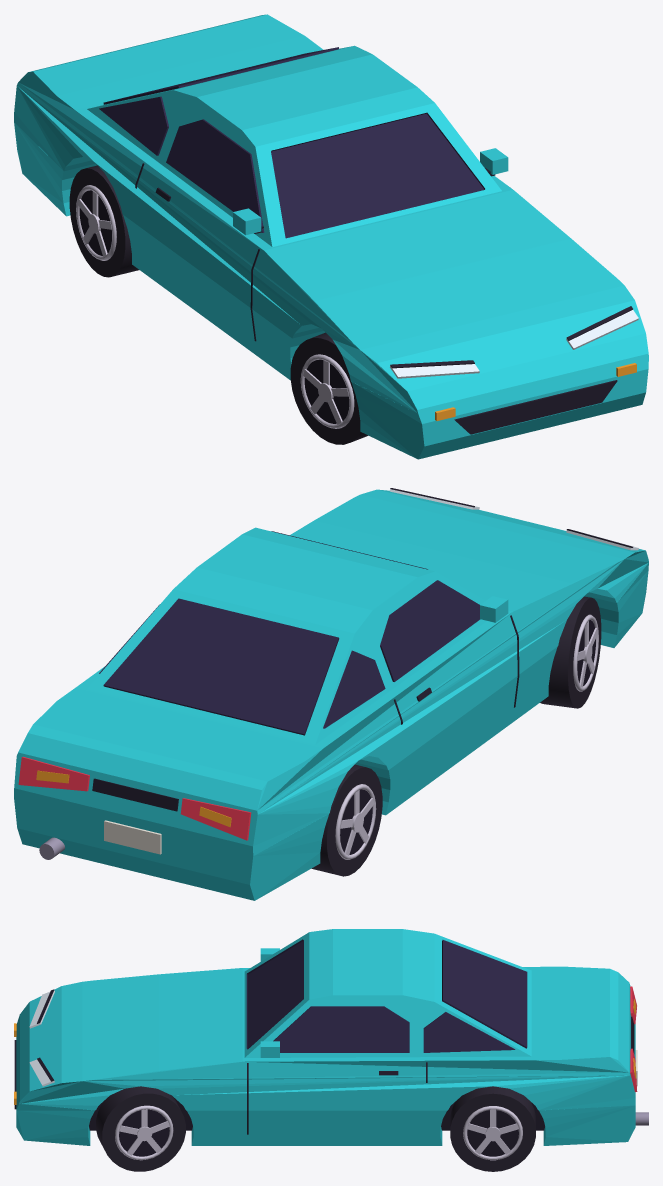
The model's file is sylph_s15_pool.glb.
The picture shows the model from 3 angles, top to bottom: view 1: azimuth 30°, elevation 25°; view 2: azimuth 150°, elevation 25°; view 3: azimuth 270°, elevation 25°; orthographic projection. The views are drawn at different scales.
Visible parts, largest first — view 1: body_top, body_mid, cabin, glass_windshield, body_low_front, body_low_mid, glass_door, intake, wheel_RL_tire, wheel_FL_tire, body_low_rear, glass_quarter (+7 smaller); view 2: body_top, body_mid, cabin, glass_rear, body_low_rear, body_low_mid, glass_door, wheel_FL_tire, wheel_RL_tire, glass_quarter, body_low_front, taillamp_L (+7 smaller); view 3: body_top, body_mid, cabin, body_low_mid, glass_rear, glass_door, glass_windshield, wheel_FR_tire, wheel_RR_tire, body_low_rear, body_low_front, glass_quarter (+5 smaller).
Boxes of the visible parts, <box> form: body_top: <box>17,14,616,342</box>; body_mid: <box>14,86,648,413</box>; cabin: <box>87,45,501,246</box>; glass_windshield: <box>271,112,484,238</box>; body_low_front: <box>351,357,648,459</box>; body_low_mid: <box>123,215,325,380</box>; glass_door: <box>166,119,264,232</box>; intake: <box>454,380,617,434</box>; wheel_RL_tire: <box>69,165,138,277</box>; wheel_FL_tire: <box>290,332,368,444</box>; body_low_rear: <box>14,122,97,216</box>; glass_quarter: <box>99,96,168,155</box>; body_top: <box>17,498,616,814</box>; body_mid: <box>14,489,648,856</box>; cabin: <box>87,527,486,744</box>; glass_rear: <box>103,598,339,735</box>; body_low_rear: <box>14,798,328,900</box>; body_low_mid: <box>355,646,557,815</box>; glass_door: <box>380,580,480,681</box>; wheel_FL_tire: <box>540,596,601,708</box>; wheel_RL_tire: <box>311,764,382,876</box>; glass_quarter: <box>99,604,385,728</box>; body_low_front: <box>584,563,648,647</box>; taillamp_L: <box>180,798,251,840</box>; body_top: <box>93,966,629,1079</box>; body_mid: <box>19,980,635,1110</box>; cabin: <box>244,929,531,1057</box>; body_low_mid: <box>187,1110,446,1145</box>; glass_rear: <box>442,940,527,1048</box>; glass_door: <box>273,1006,409,1052</box>; glass_windshield: <box>246,939,303,1049</box>; wheel_FR_tire: <box>96,1086,185,1171</box>; wheel_RR_tire: <box>450,1086,535,1171</box>; body_low_rear: <box>539,1105,635,1145</box>; body_low_front: <box>16,1018,94,1145</box>; glass_quarter: <box>423,1012,515,1052</box>.
Bounding box in the file's own units: 1.77 × 1.28 × 4.56.
